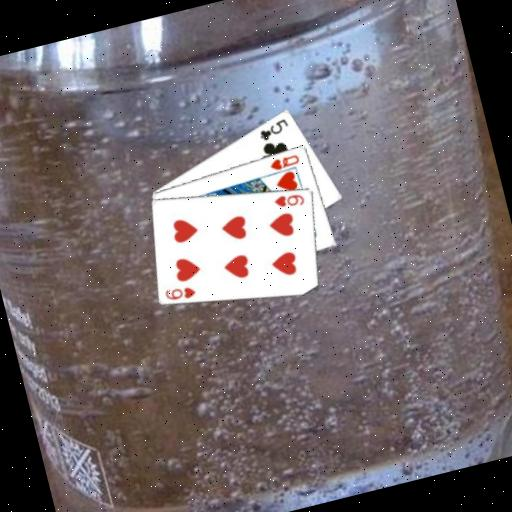5C: (254, 114, 292, 143)
6H: (270, 187, 307, 213), (161, 279, 198, 305)
QH: (266, 151, 303, 174)
